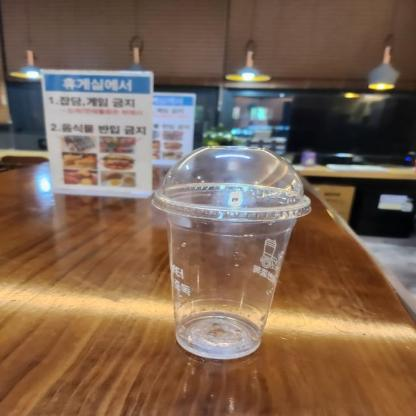Plastic Cup: (153, 147, 309, 363)
